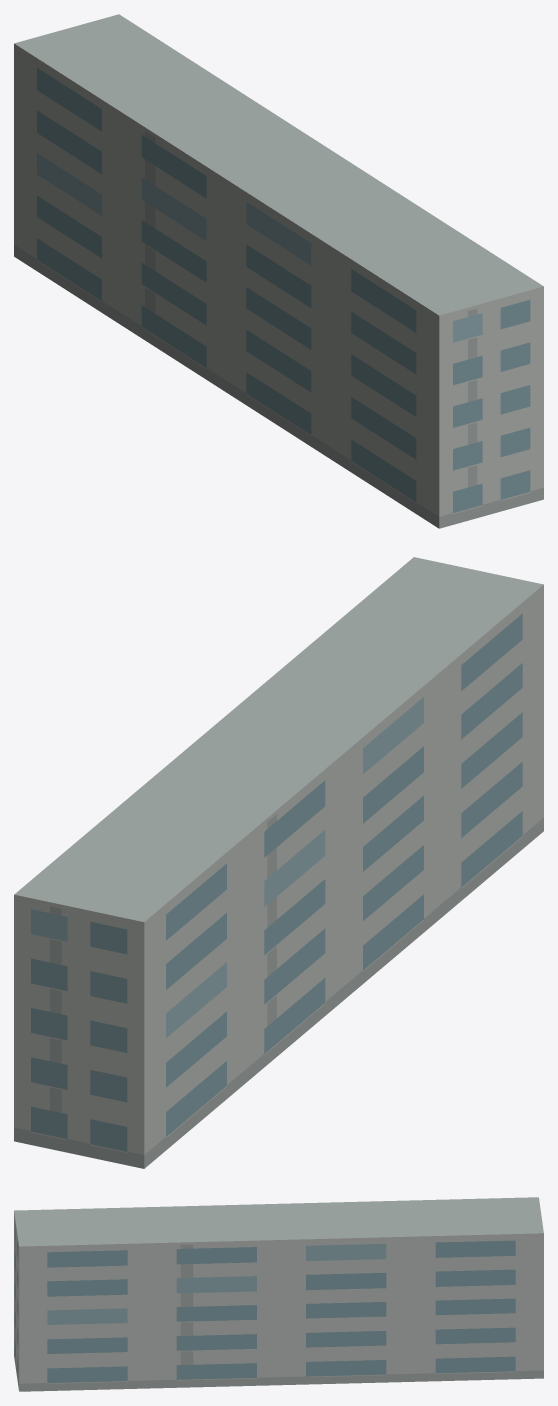
The model's file is residential-47eaa999-d9c0-4f58-bb80-f04d1d2c7e3d.glb.
The picture shows the model from 3 angles, top to bottom: view 1: azimuth 30°, elevation 25°; view 2: azimuth 150°, elevation 25°; view 3: azimuth 270°, elevation 25°; orthographic projection. The views are drawn at different scales.
Parts seen in each view (by area): view 1: residential-47eaa999-d9c0-4f58-bb80-f04d1d2c7e3d.tmp; view 2: residential-47eaa999-d9c0-4f58-bb80-f04d1d2c7e3d.tmp; view 3: residential-47eaa999-d9c0-4f58-bb80-f04d1d2c7e3d.tmp.
Part boxes in pixels (x1,y1,x2,y2): residential-47eaa999-d9c0-4f58-bb80-f04d1d2c7e3d.tmp: (14,14,543,528); residential-47eaa999-d9c0-4f58-bb80-f04d1d2c7e3d.tmp: (14,557,543,1168); residential-47eaa999-d9c0-4f58-bb80-f04d1d2c7e3d.tmp: (14,1197,543,1391).
Size of the model in its own units: 11.13 by 15.25 by 50.45.
